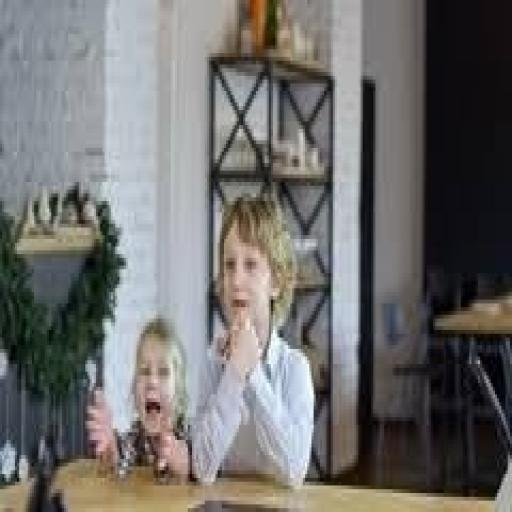clapping: (188, 190, 316, 489)
